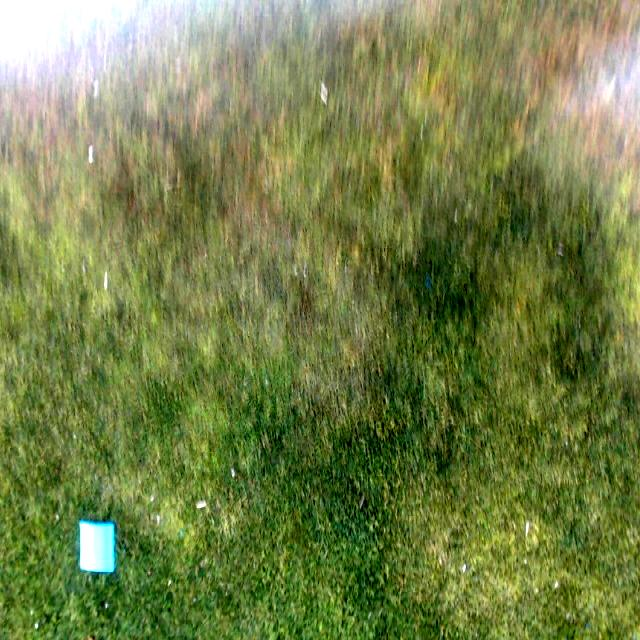blue_square: (80, 522, 114, 573)
